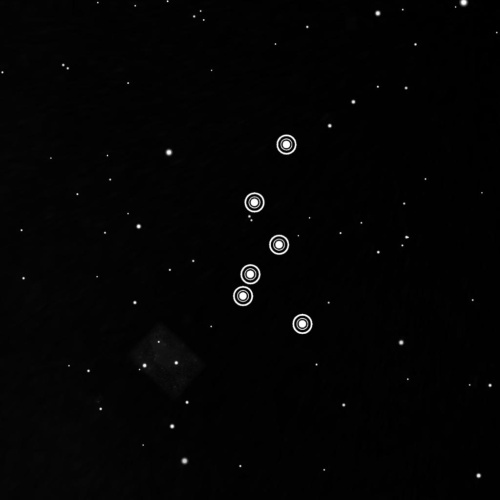cassiopeia: (229, 130, 318, 341)
